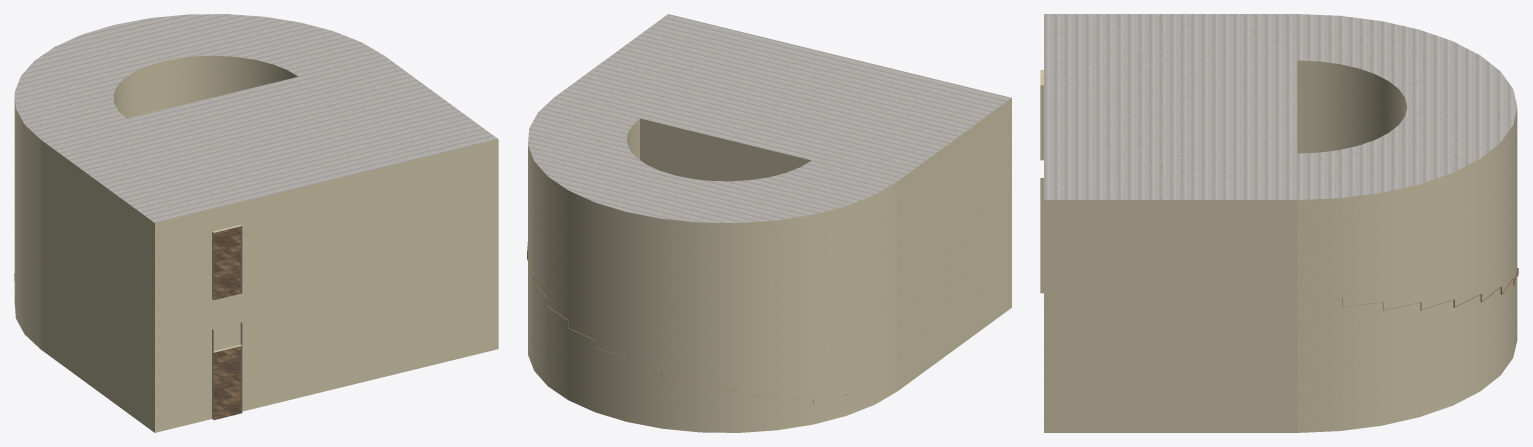
File: stairwell.glb
3 views of the same model, side by side, from view 1: azimuth 30°, elevation 25°; view 2: azimuth 150°, elevation 25°; view 3: azimuth 270°, elevation 25° (orthographic). The views are drawn at different scales.
Visible parts, largest first — view 1: Plane; view 2: Plane; view 3: Plane.
Part boxes in pixels (x1=…): Plane: x1=14, y1=14, x2=498, y2=432; Plane: x1=527, y1=14, x2=1011, y2=432; Plane: x1=1040, y1=14, x2=1518, y2=432.
Size of what is drawn, in the model's own units: 12 by 7 by 13.03.
Materials: 4 (4 with a texture image).
